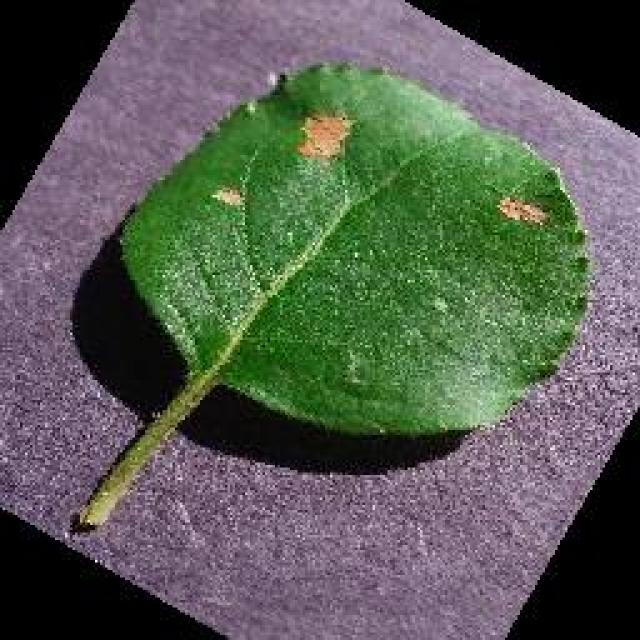Black_rot: (67, 58, 595, 532)
